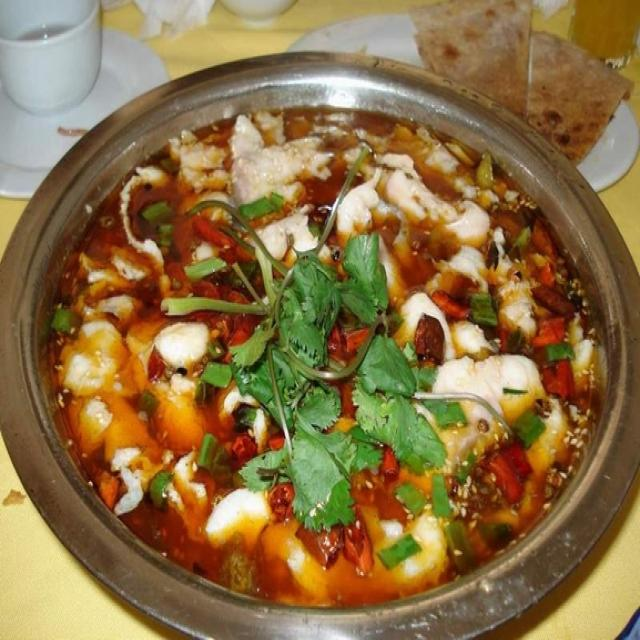汤锅炖物: (20, 27, 619, 628)
